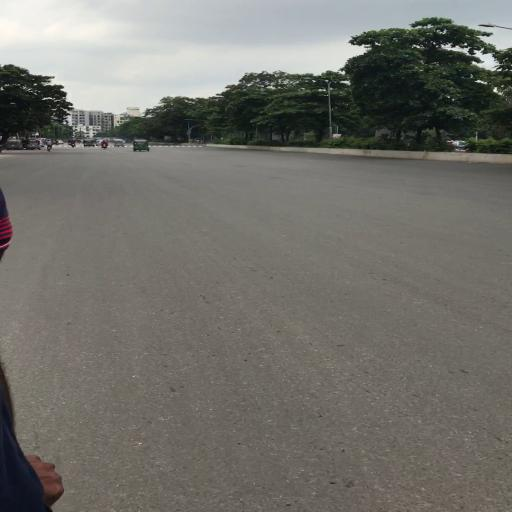bicycle: (47, 141, 54, 153)
motorbike: (102, 141, 108, 149), (71, 141, 76, 149)
three wheelers (CNG): (132, 140, 151, 153), (25, 140, 42, 151), (7, 140, 23, 151), (114, 140, 126, 148), (84, 140, 95, 148)
